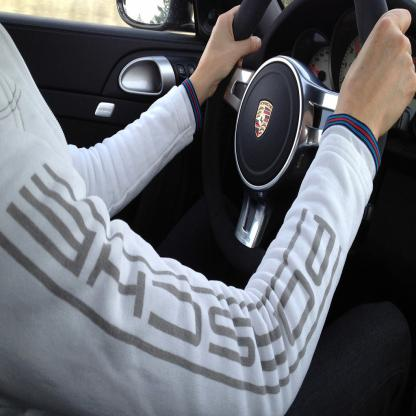Car: (2, 1, 416, 416)
